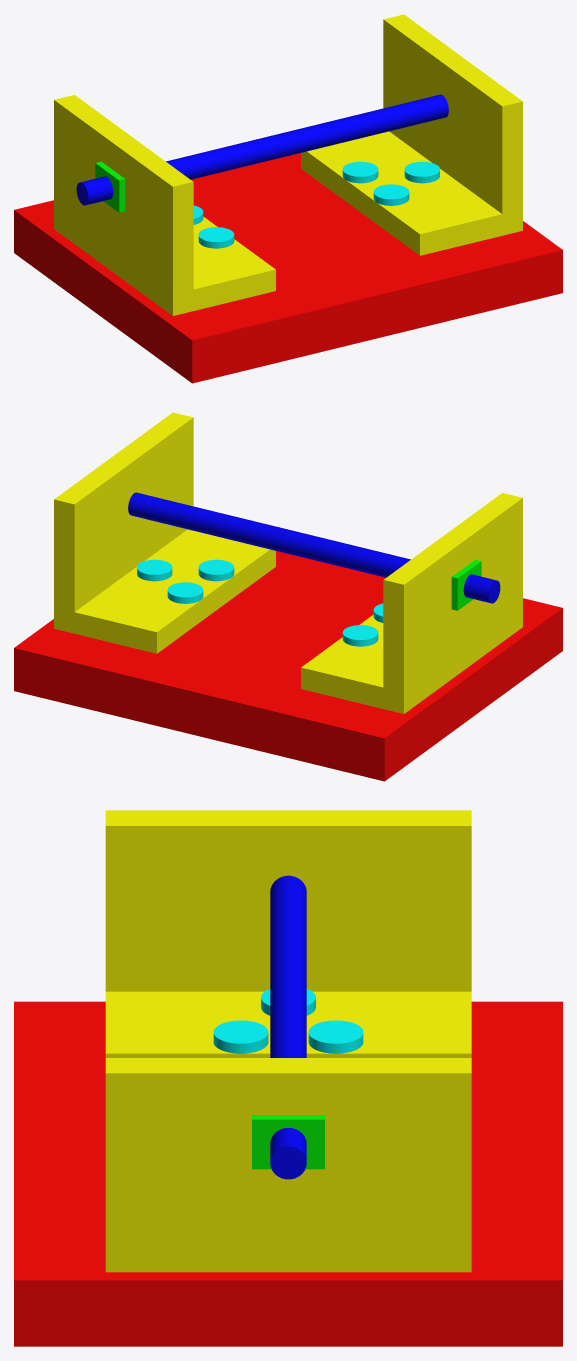
3 renders of one model, top to bottom at view 1: azimuth 30°, elevation 25°; view 2: azimuth 150°, elevation 25°; view 3: azimuth 270°, elevation 25°, orthographic. The views are drawn at different scales.
Parts seen in each view (by area): view 1: PLATE, L-BRACKET, L-BRACKET001, ROD, NUT006, BOLT001, BOLT005, BOLT002, BOLT; view 2: PLATE, L-BRACKET, L-BRACKET001, ROD, NUT006, BOLT002, BOLT004, BOLT001, BOLT; view 3: PLATE, L-BRACKET001, L-BRACKET, ROD, NUT007, BOLT004, BOLT005.
Part boxes in pixels (x1,y1,x2,y2): PLATE: [14, 153, 562, 383]; L-BRACKET: [301, 14, 522, 255]; L-BRACKET001: [54, 95, 275, 315]; ROD: [76, 94, 448, 205]; NUT006: [95, 161, 125, 212]; BOLT001: [373, 184, 409, 205]; BOLT005: [198, 227, 234, 248]; BOLT002: [342, 161, 378, 183]; BOLT: [404, 161, 439, 183]; PLATE: [14, 551, 562, 781]; L-BRACKET: [54, 412, 275, 653]; L-BRACKET001: [301, 493, 522, 713]; ROD: [128, 492, 500, 603]; NUT006: [451, 559, 481, 610]; BOLT002: [167, 582, 203, 603]; BOLT004: [342, 625, 378, 646]; BOLT001: [198, 559, 234, 581]; BOLT: [137, 559, 172, 581]; PLATE: [14, 1001, 562, 1346]; L-BRACKET001: [105, 810, 471, 1057]; L-BRACKET: [105, 1058, 471, 1272]; ROD: [270, 875, 306, 1179]; NUT007: [252, 1115, 324, 1169]; BOLT004: [308, 1020, 363, 1053]; BOLT005: [213, 1020, 268, 1053].
Size of the model in its own units: 0.2 by 0.087 by 0.15.
